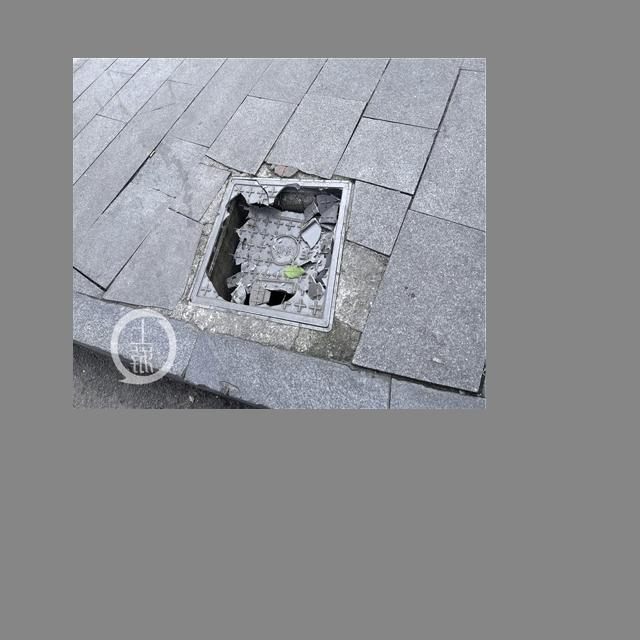broke: (165, 164, 382, 325)
